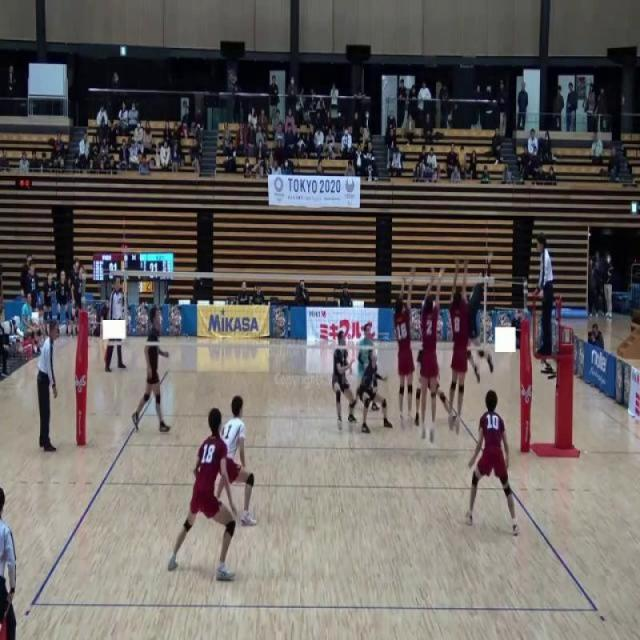volleyball: (458, 148, 465, 166)
